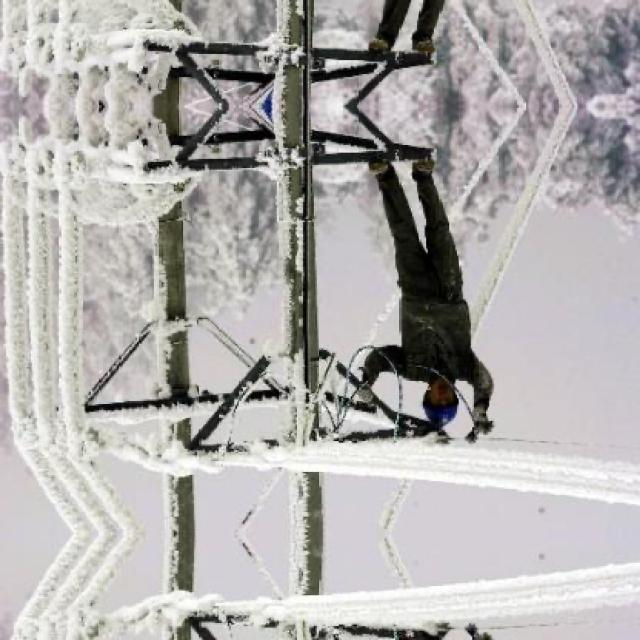con casco: (386, 365, 499, 456)
